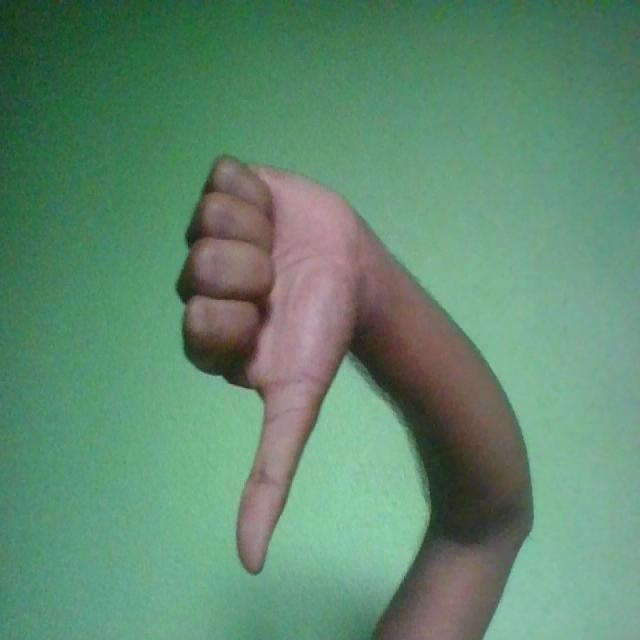Dislike: (174, 154, 369, 575)
